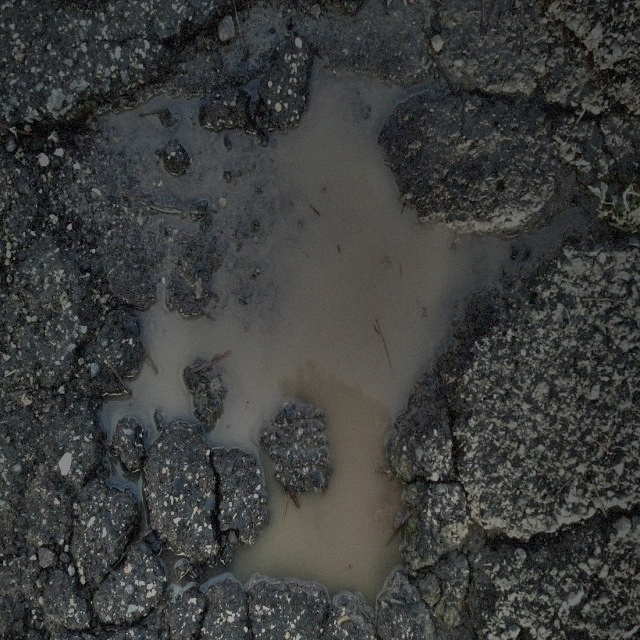pothole: (69, 47, 545, 612)
